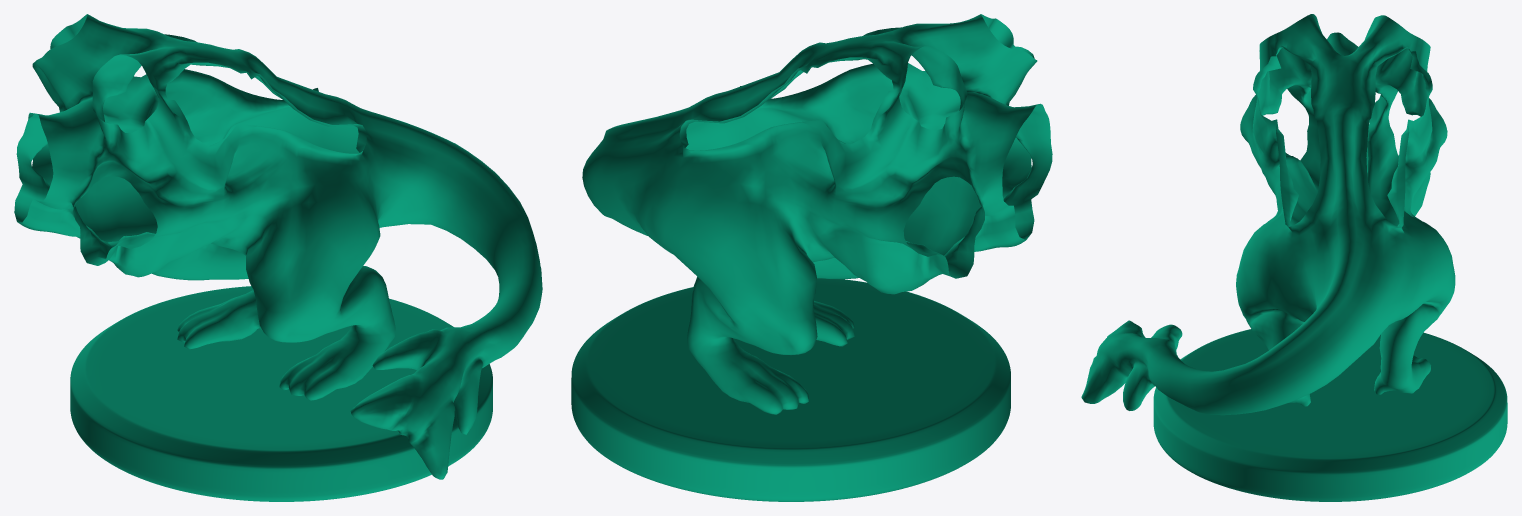
The model's file is Cuerpo Dragon.obj.
3 renders of one model, left to right at view 1: azimuth 30°, elevation 25°; view 2: azimuth 150°, elevation 25°; view 3: azimuth 270°, elevation 25°, orthographic. The views are drawn at different scales.
Visible parts, largest first — view 1: Cuerpo; view 2: Cuerpo; view 3: Cuerpo.
Boxes of the visible parts, <box> form: Cuerpo: <box>14,14,542,501</box>; Cuerpo: <box>571,14,1052,501</box>; Cuerpo: <box>1081,14,1507,501</box>.
Size of the model in its own units: 5.01 by 4.34 by 4.81.
1 material, 1 textured.
